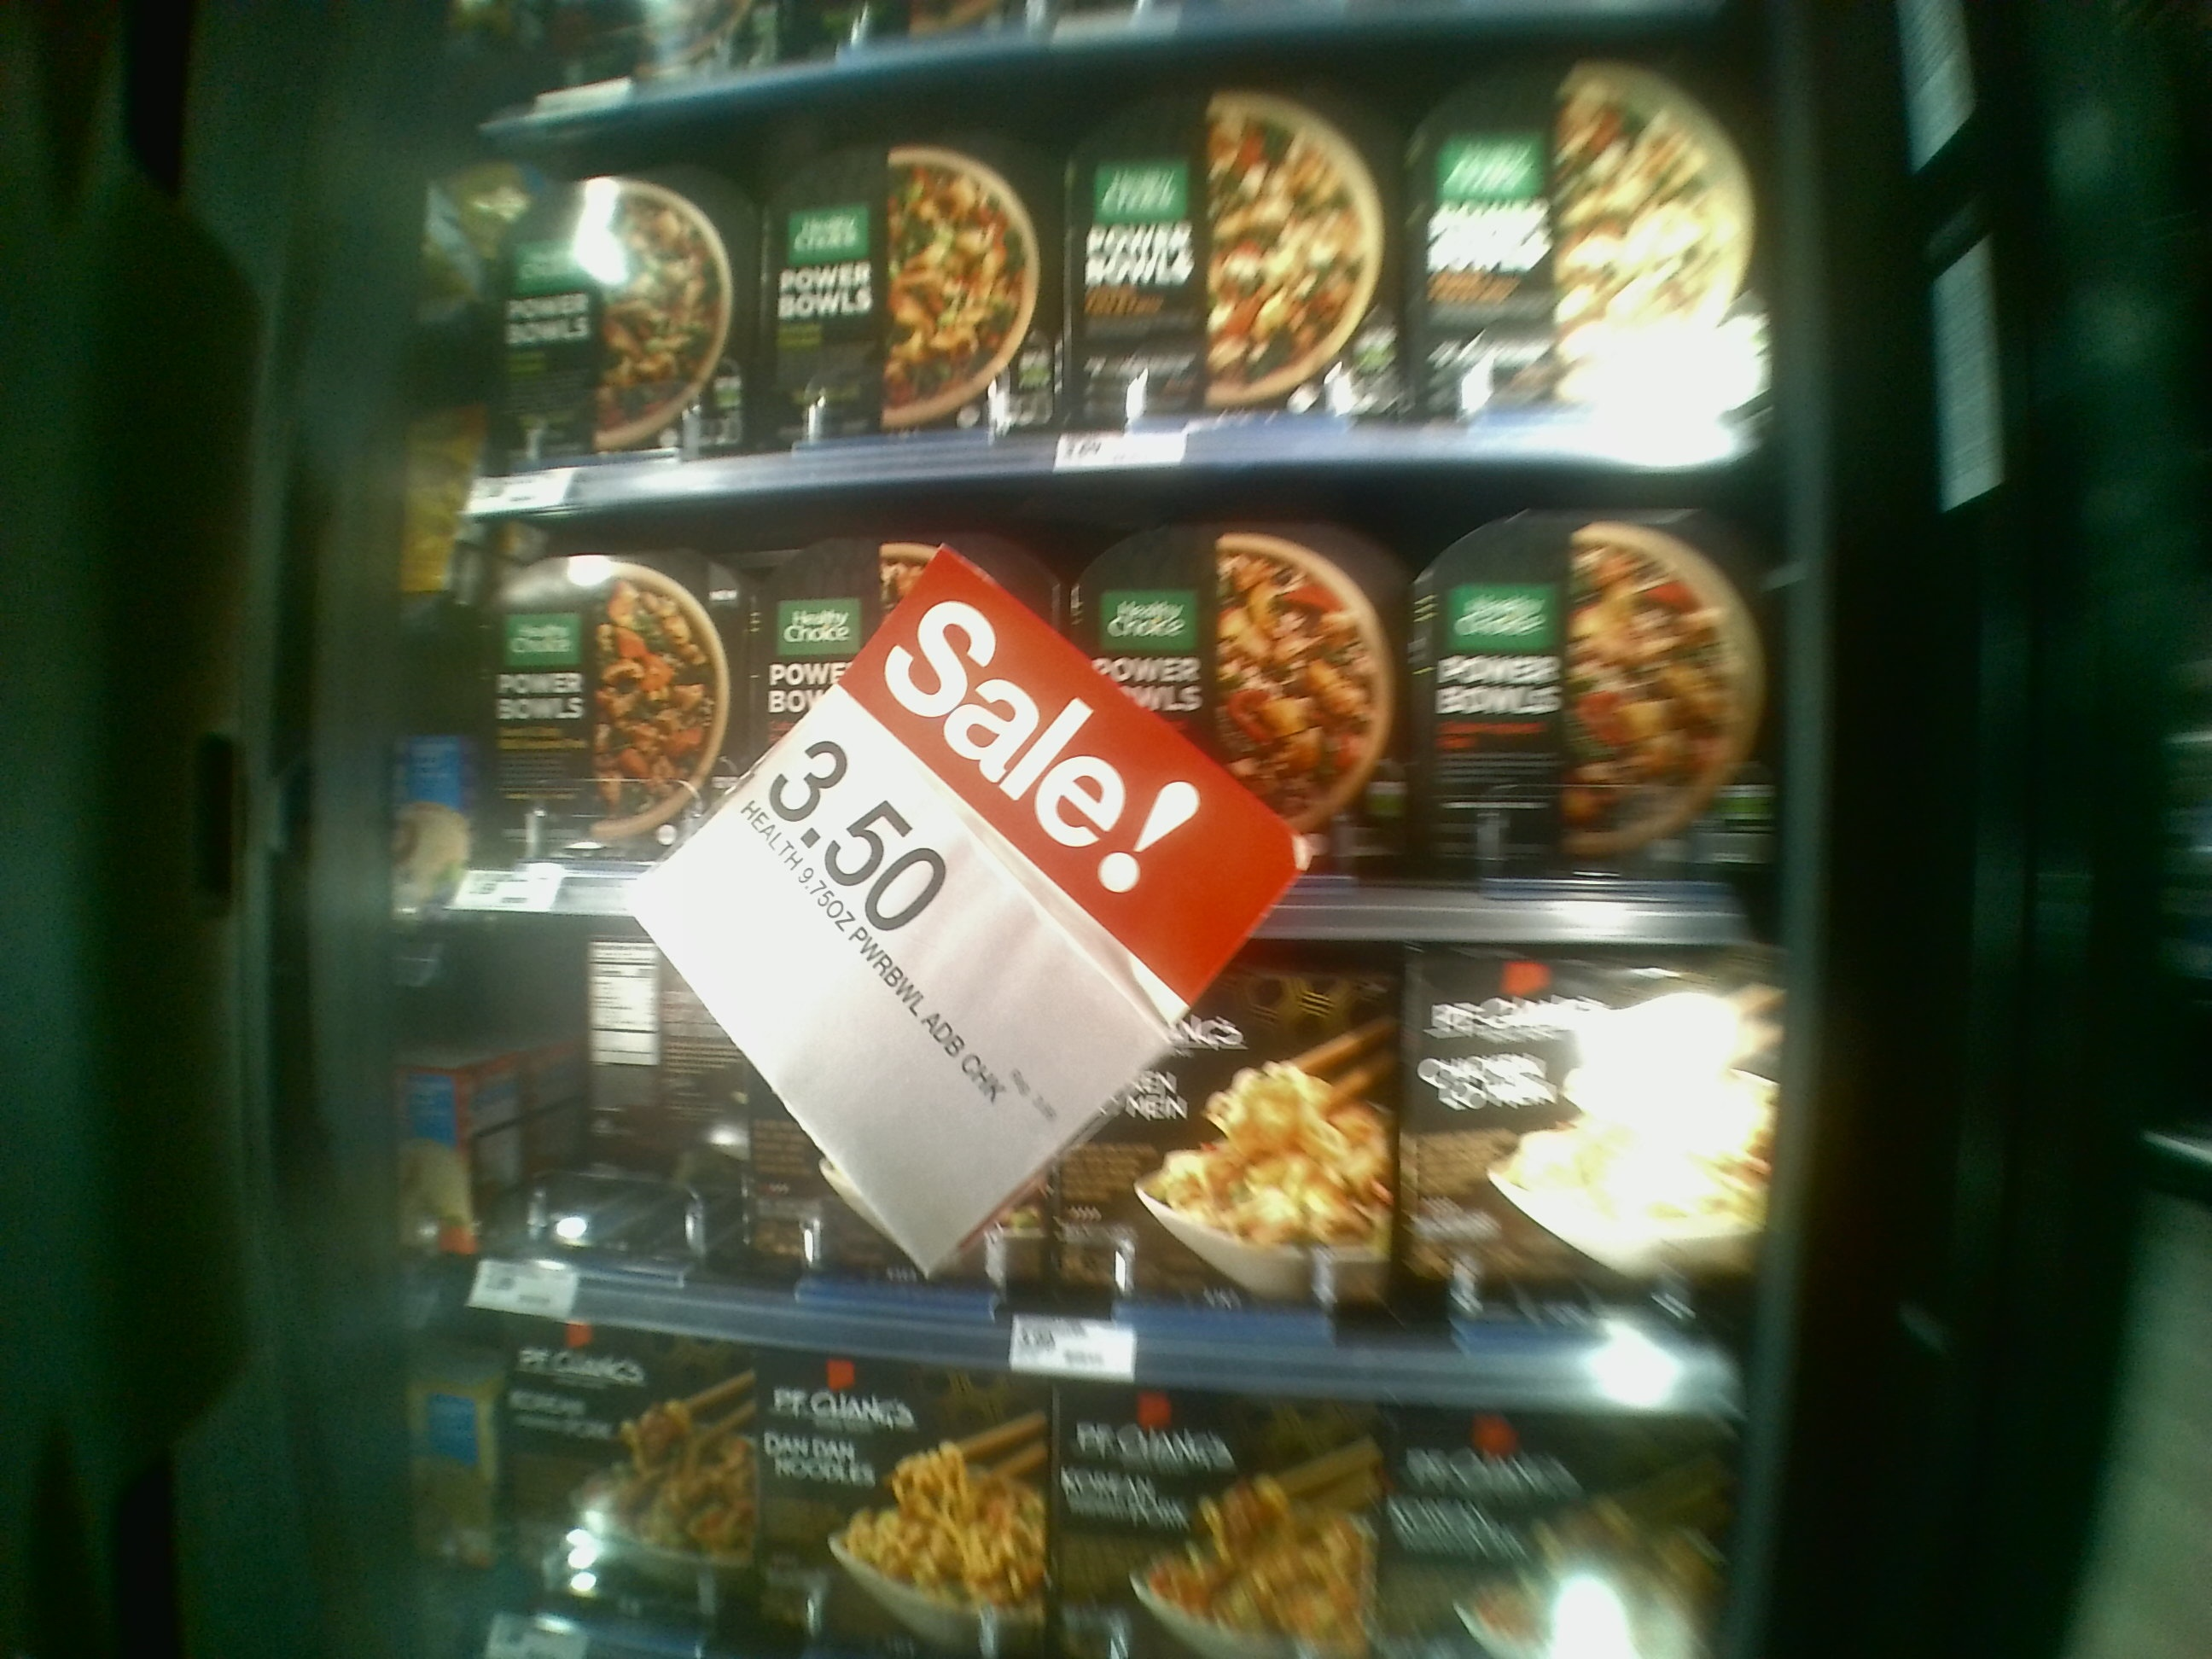shelf: (442, 462, 1761, 948)
